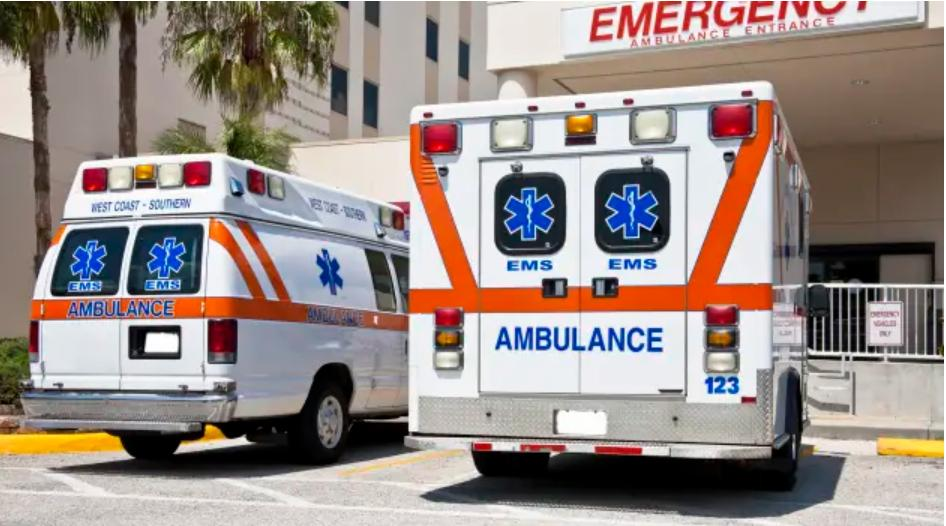ambulance_off: (407, 80, 811, 495), (19, 156, 418, 463)
